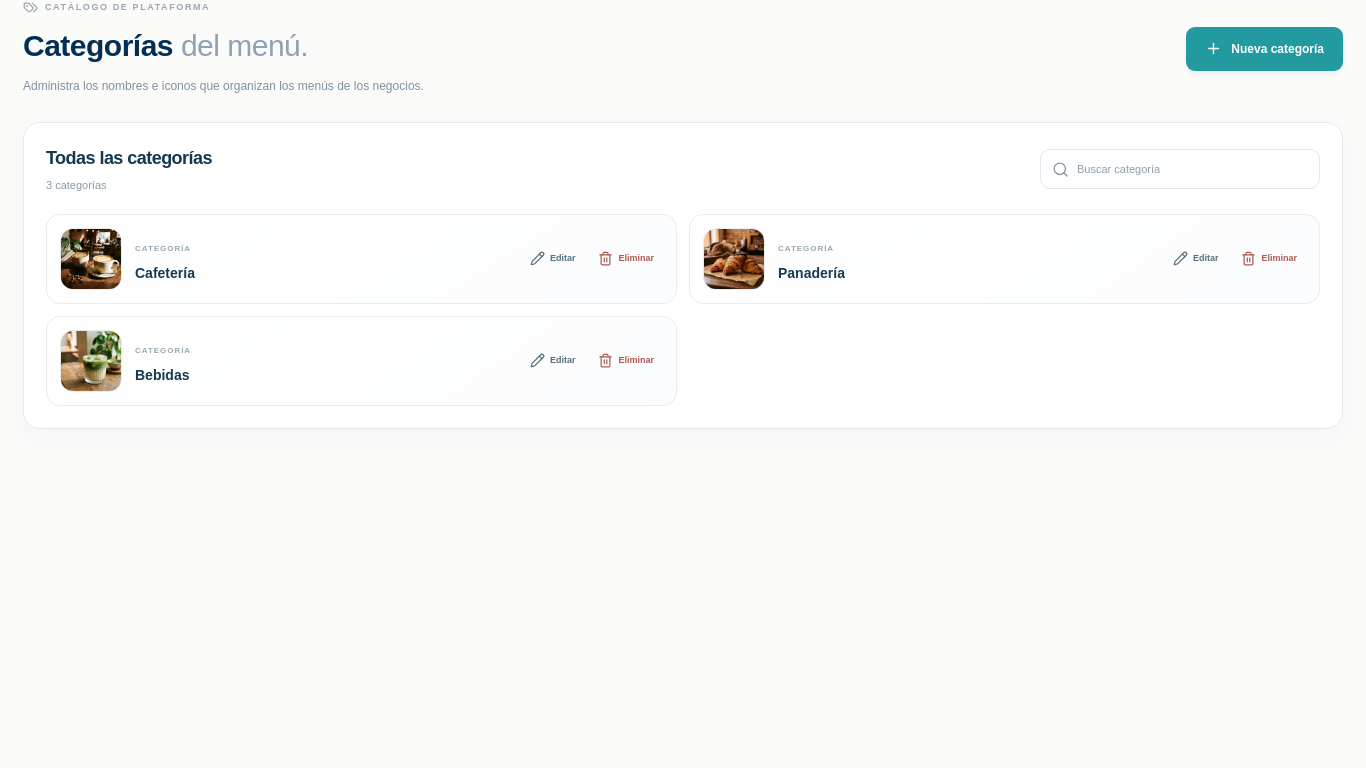
Test case: Administración de categorías › edita los datos de una categoría y persiste los cambios
This screenshot has width=1366, height=768.
Expected: the heading "Cafetería" is shown, [135,265,195,281]
Click the button with aria-label "Editar Cafetería".
click(553, 259)  # box [521,242,584,275]
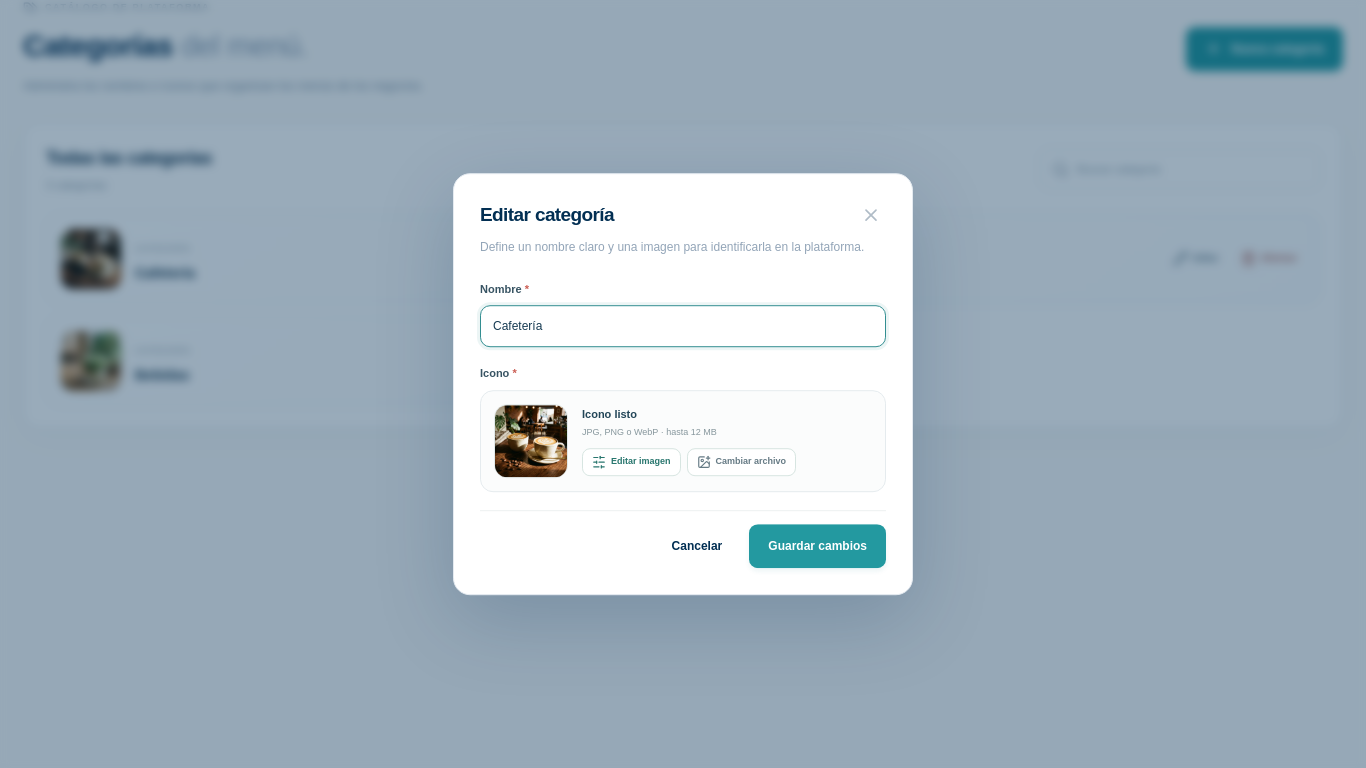
Replace the text in the field named "Nombre de la categoría" with "Café de especialidad" at coordinates (683, 326), box [480,305,886,347]
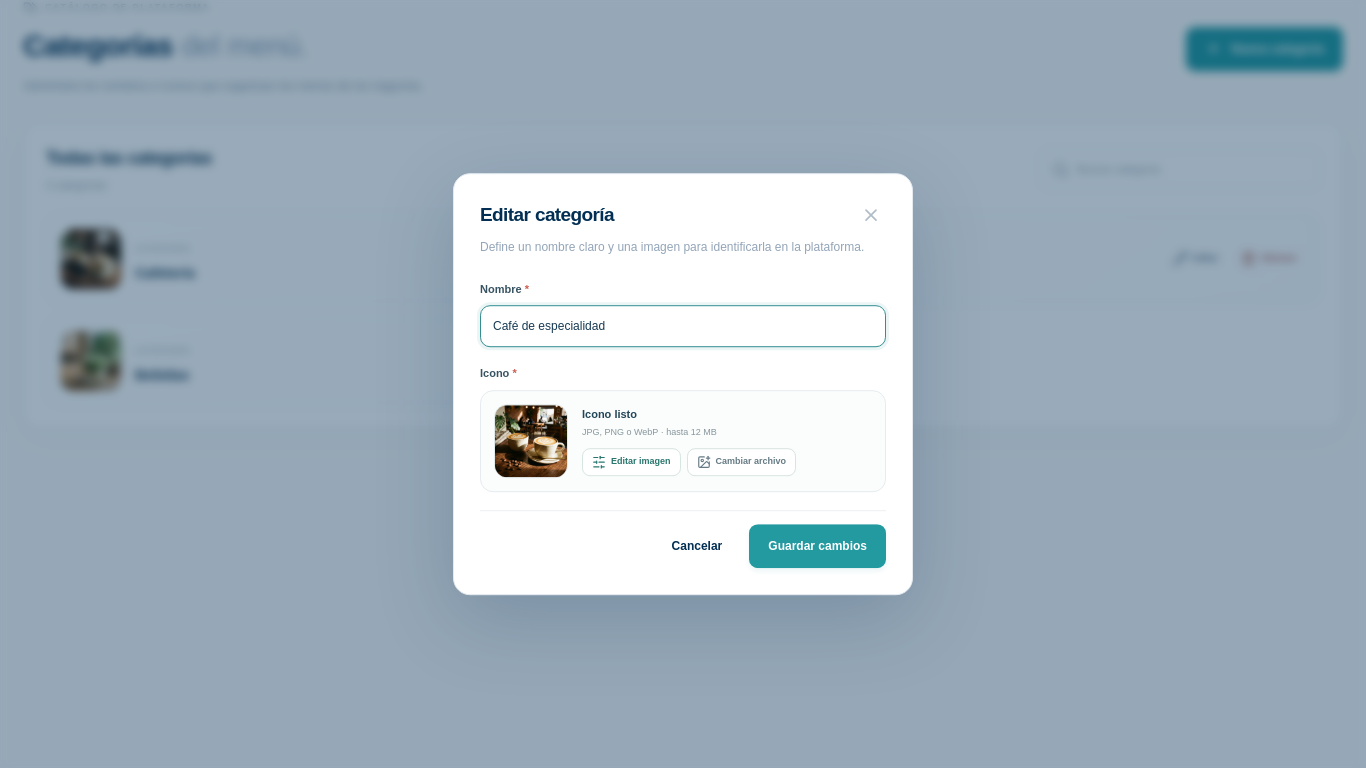
Click the button "Guardar cambios".
click(818, 546)  # box [749,524,886,568]
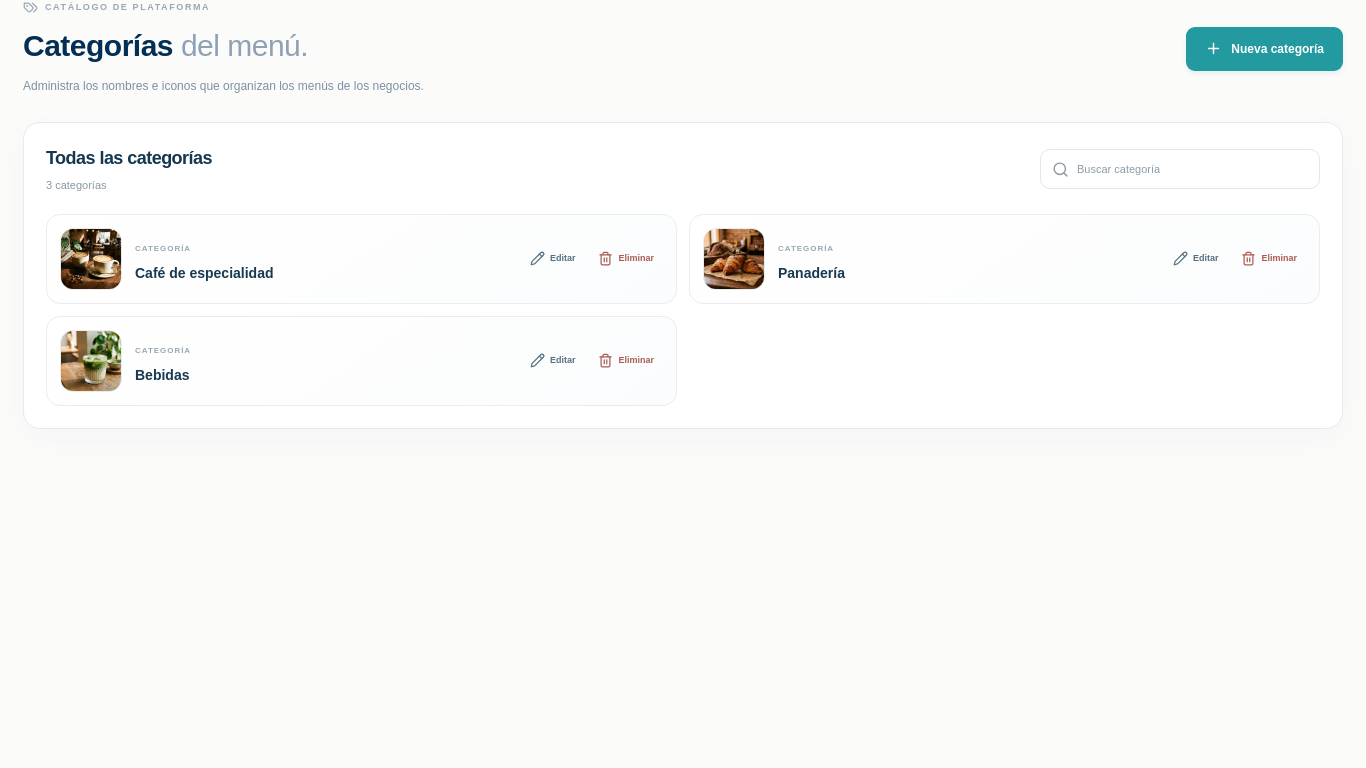
Expected: the heading named "Cafetería" reads "Café de especialidad", [135,265,274,281]
